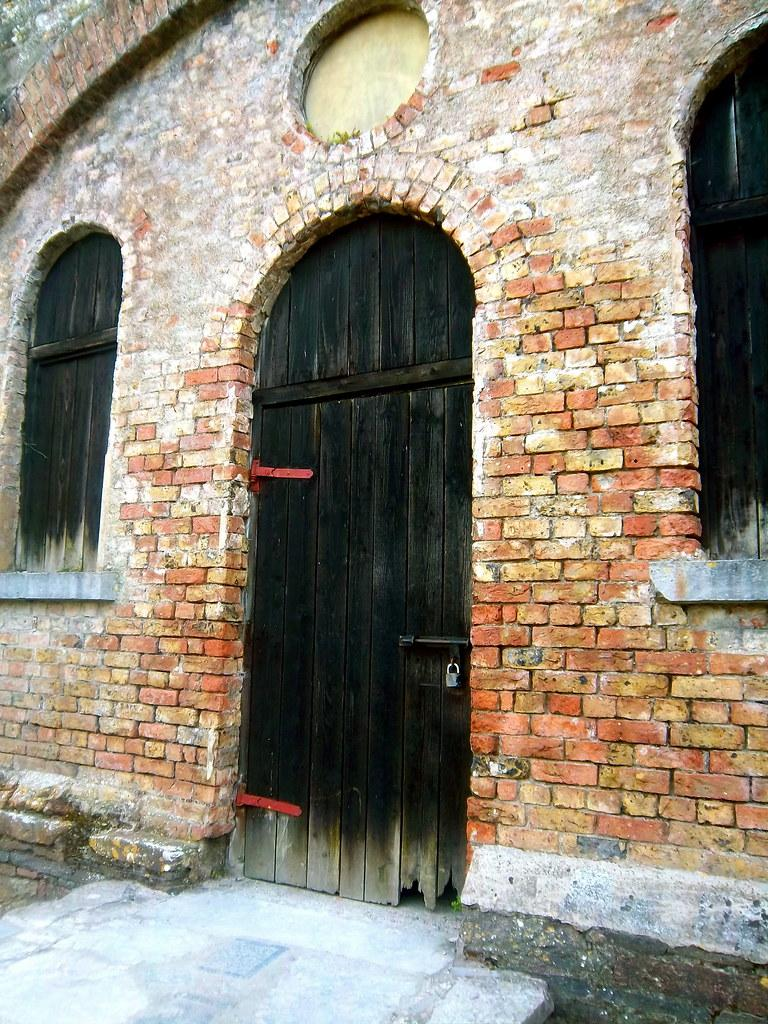door: (239, 211, 476, 909)
